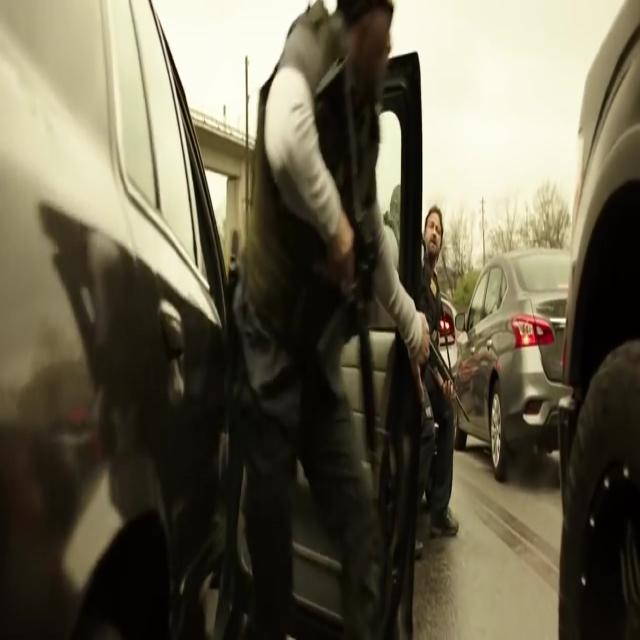Weapon: (311, 234, 390, 472), (409, 293, 475, 465)
